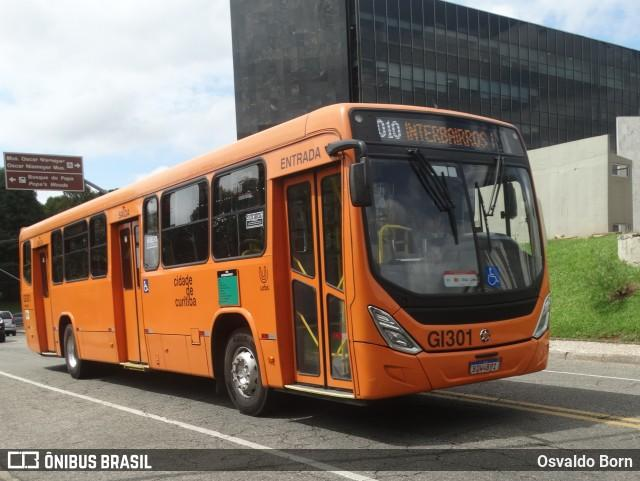INTERBAIRROS I: (399, 117, 500, 152)
